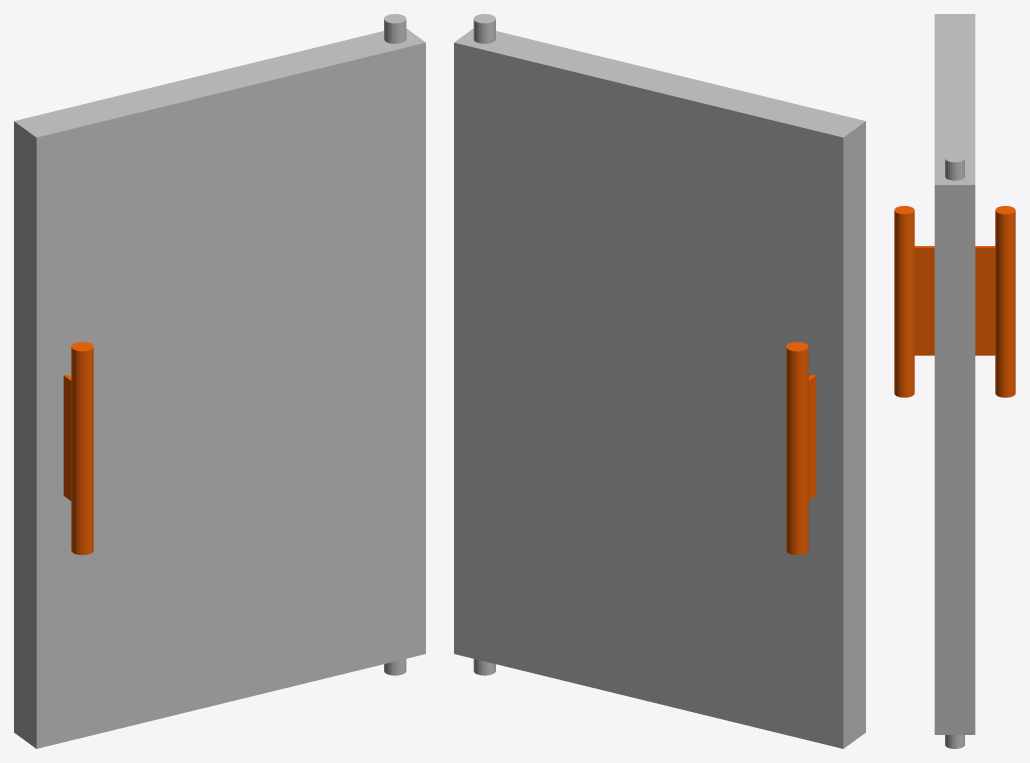
Rendered from Door.fbx.
3 views of the same model, side by side, from view 1: azimuth 30°, elevation 25°; view 2: azimuth 150°, elevation 25°; view 3: azimuth 270°, elevation 25° (orthographic). The views are drawn at different scales.
Parts seen in each view (by area): view 1: Door; view 2: Door; view 3: Door.
Boxes of the visible parts, x1=… form: Door: x1=14, y1=14, x2=425, y2=748; Door: x1=454, y1=14, x2=865, y2=748; Door: x1=894, y1=14, x2=1015, y2=748.
Bounding box in the file's own units: 4000 × 6400 × 1200.
